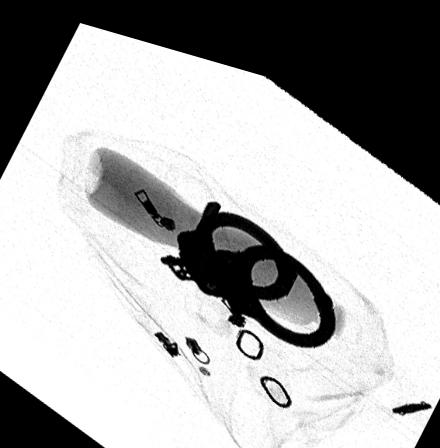HandCuffs: (159, 186, 336, 329)
